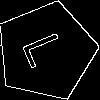L: (21, 26, 76, 70)
